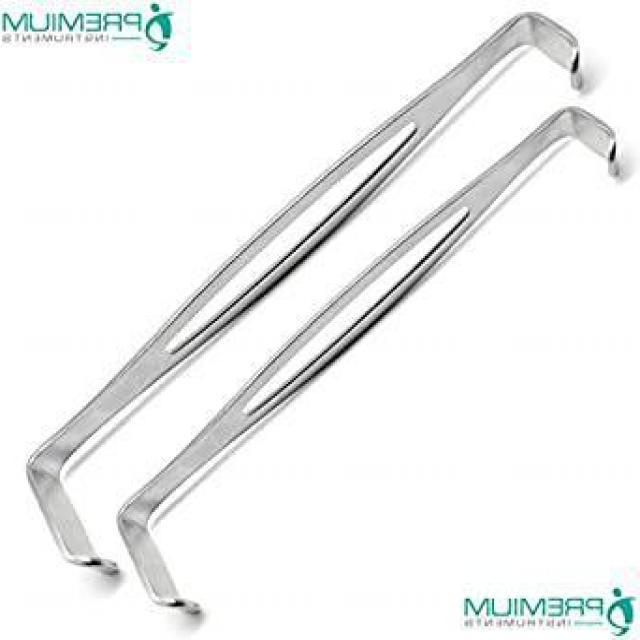Army_navy: (22, 10, 584, 585), (114, 107, 621, 620)
